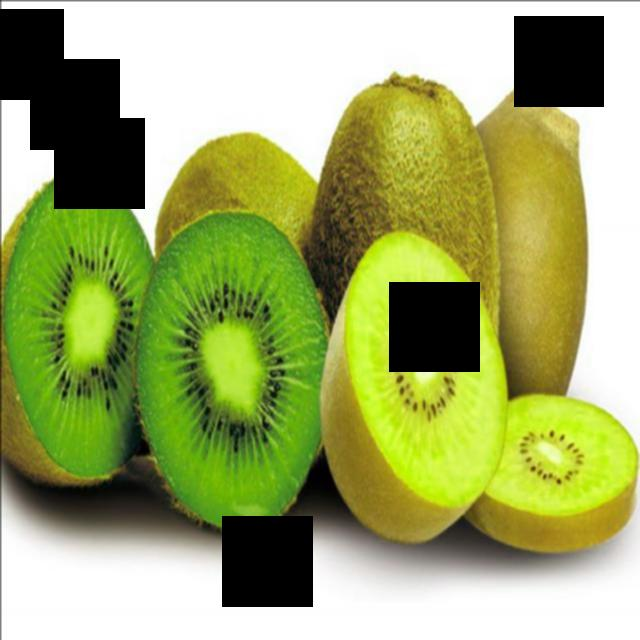kiwi: (314, 58, 507, 321), (489, 77, 603, 401), (154, 128, 324, 300)
